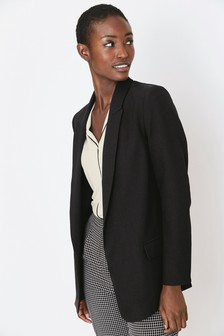F_W_suit jacket: (64, 81, 196, 299)
